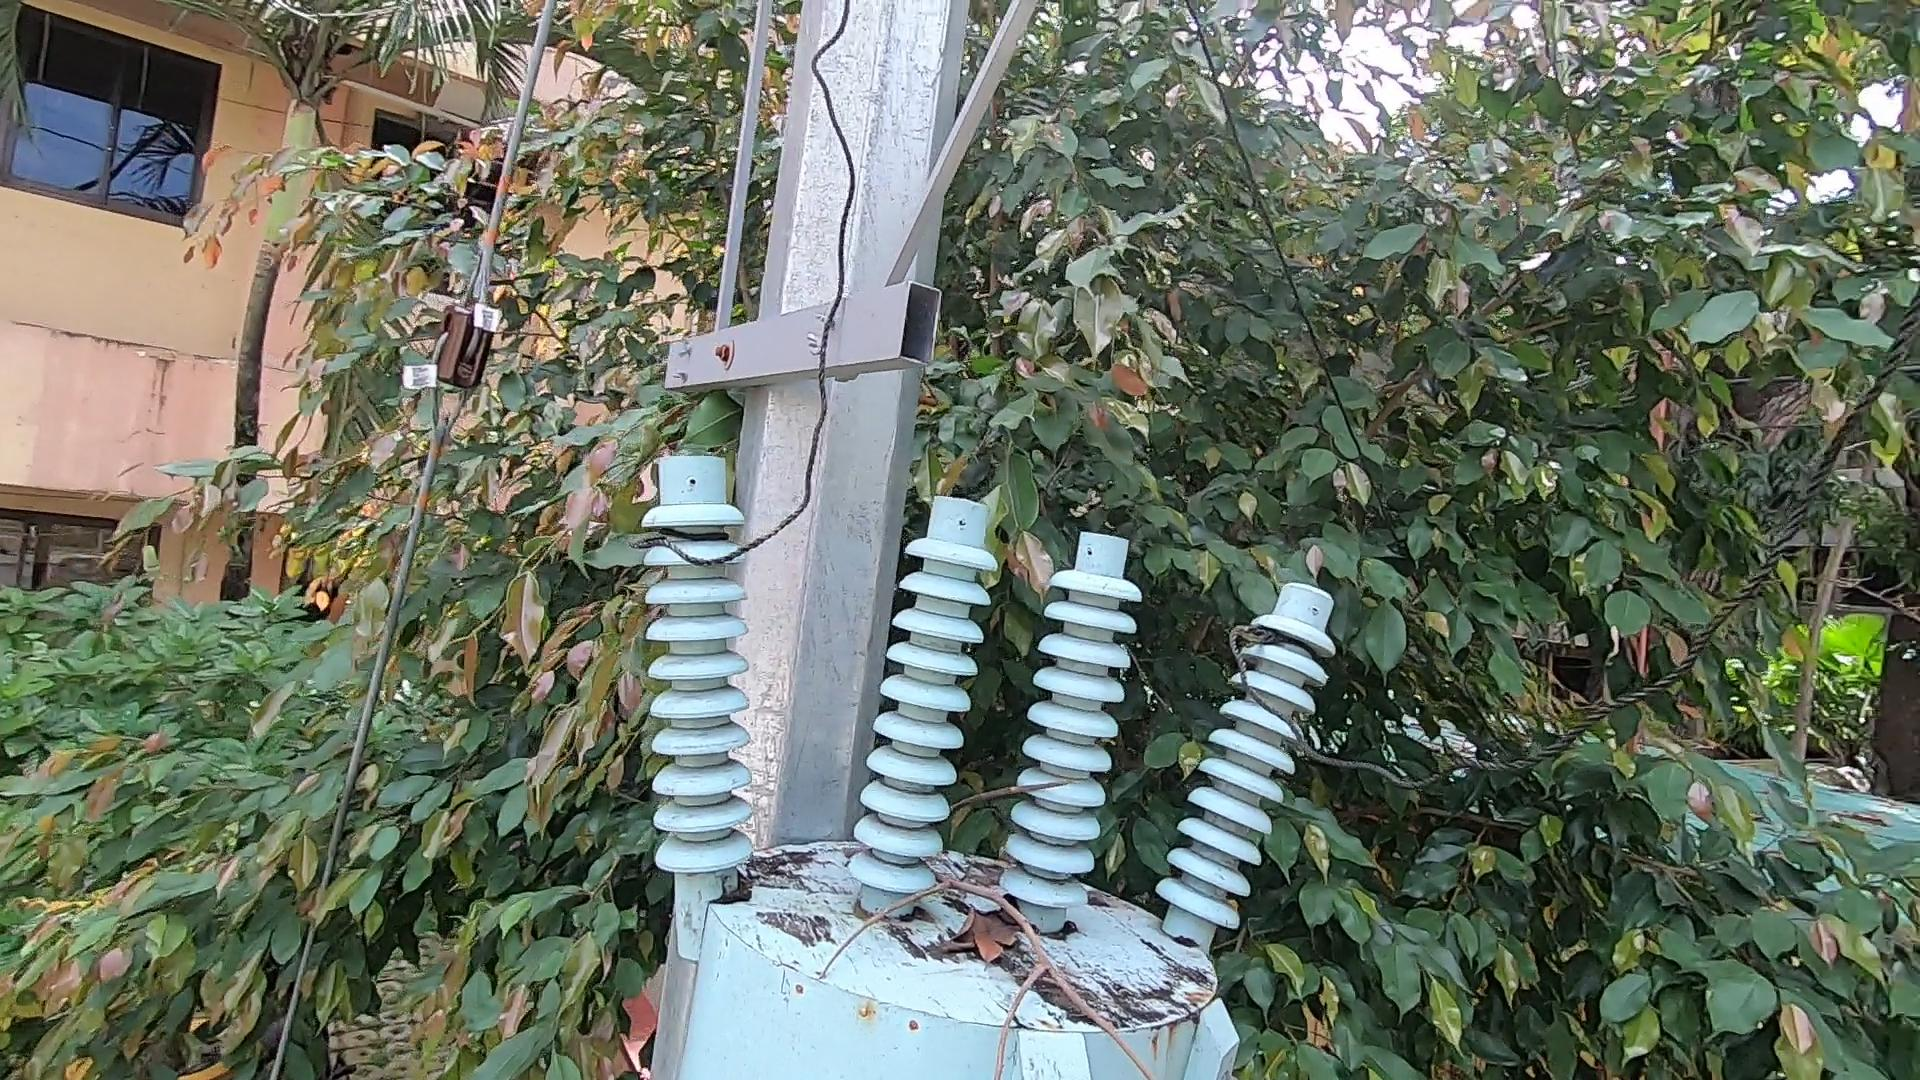leaf: (938, 882, 1040, 959), (694, 858, 777, 909)
tree branch: (810, 767, 1170, 1080)
